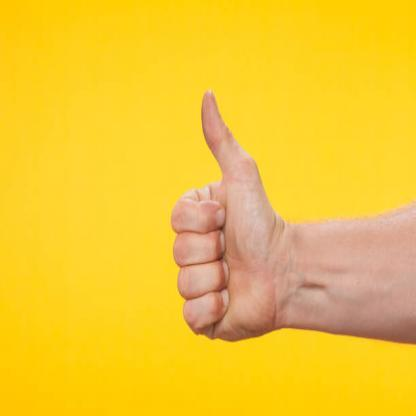thumb_up: (168, 84, 283, 344)
